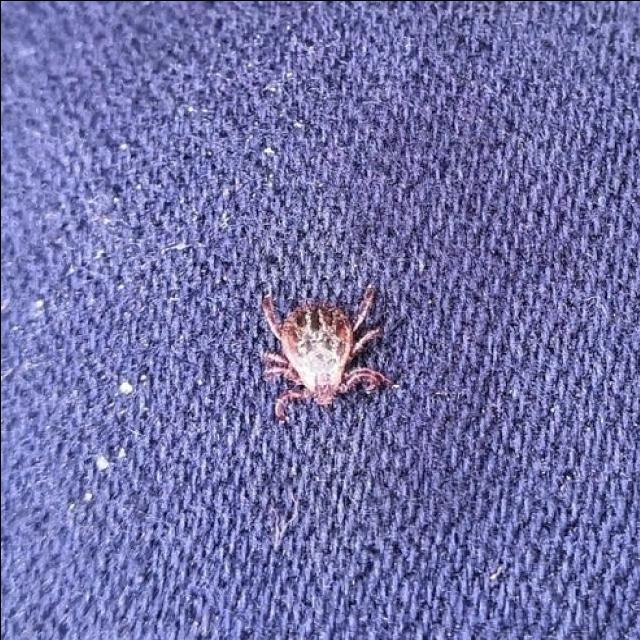Dermacentor Reticulatus-M: (262, 284, 396, 421)
